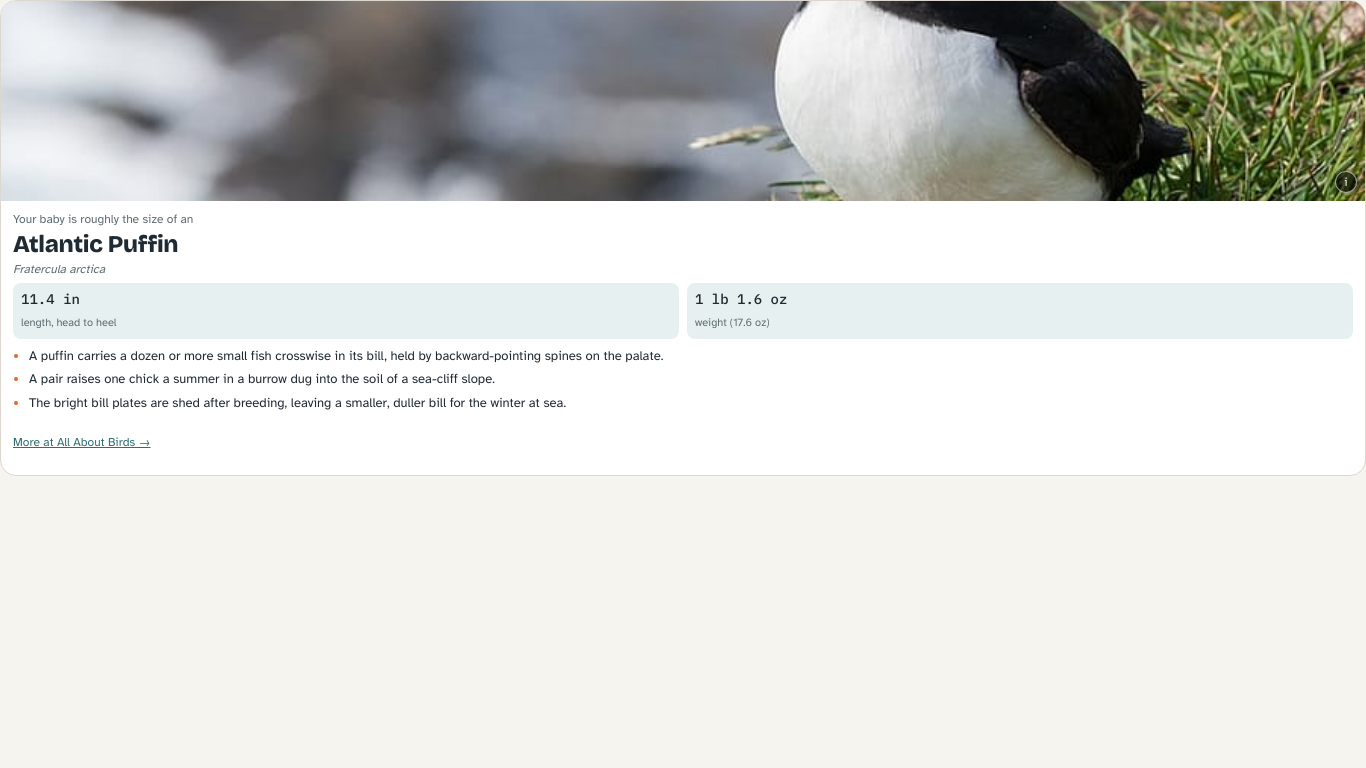
it: ComparisonCard › closes on the close button
The width and height of the screenshot is (1366, 768).
Click the button "11.4 in length, head to heel": (50, 299) [13,283,679,339]
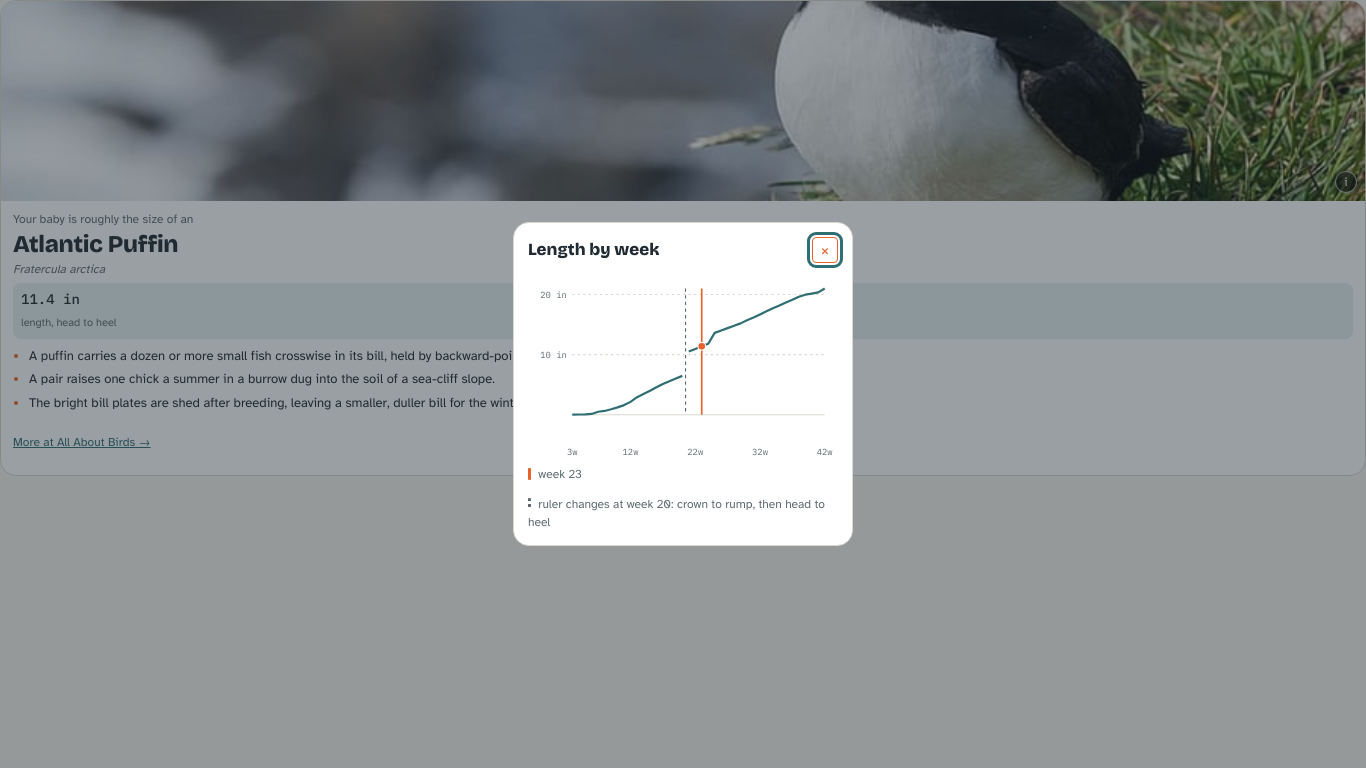
Click the button named "Close": (825, 250) [812,237,838,263]
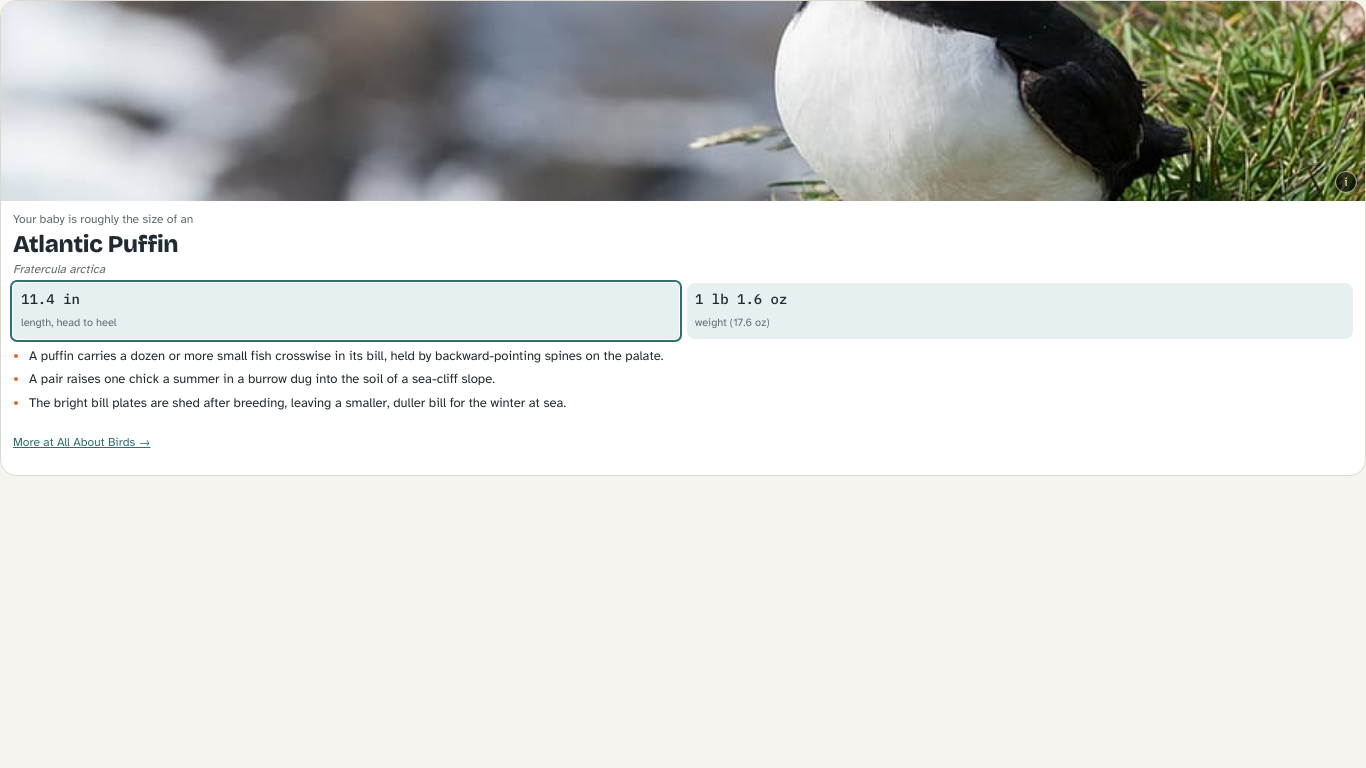
Now the dialog is gone
